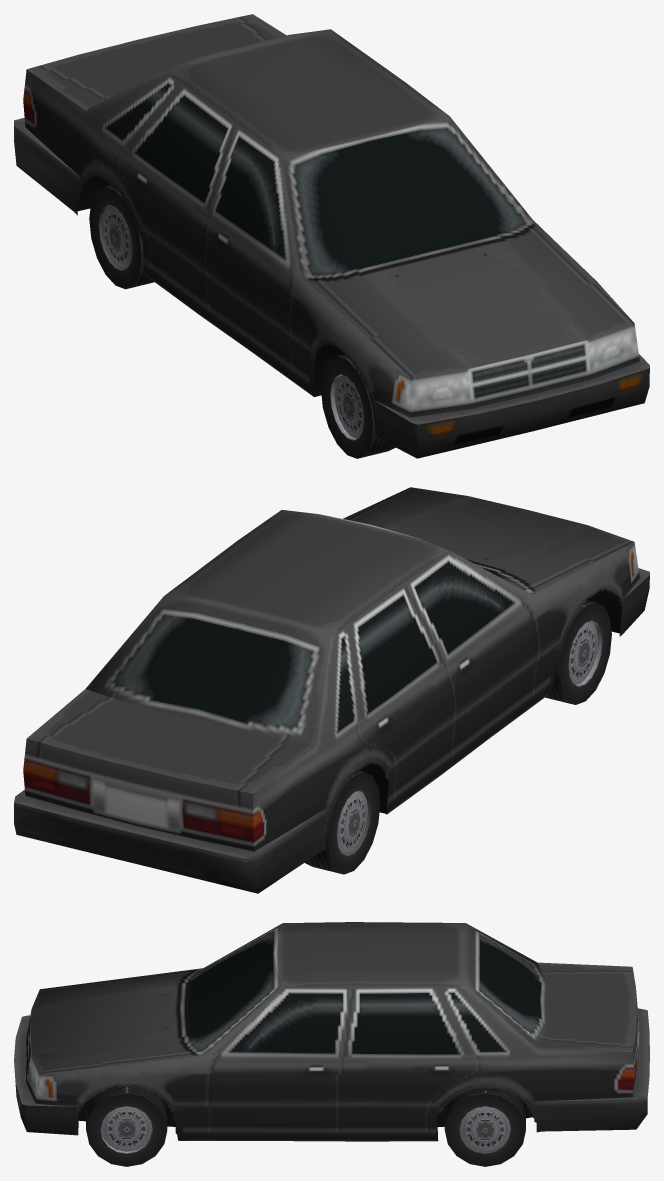
The model's file is SuspiciousCar.obj.
3 views of the same model, one above another, from view 1: azimuth 30°, elevation 25°; view 2: azimuth 150°, elevation 25°; view 3: azimuth 270°, elevation 25° (orthographic). The views are drawn at different scales.
Visible parts, largest first — view 1: Body_Cube.001, Wheel_FR_Cylinder, Wheels_RR_Cylinder.003; view 2: Body_Cube.001, Wheels_RR_Cylinder.003, Wheel_FR_Cylinder; view 3: Body_Cube.001, Wheels_FL_Cylinder.002, Wheels_RL_Cylinder.001.
Boxes of the visible parts, x1,y1,x2,y2 form: Body_Cube.001: (14, 14, 649, 458); Wheel_FR_Cylinder: (321, 354, 395, 458); Wheels_RR_Cylinder.003: (89, 185, 154, 289); Body_Cube.001: (14, 487, 649, 893); Wheels_RR_Cylinder.003: (304, 770, 380, 874); Wheel_FR_Cylinder: (545, 600, 611, 704); Body_Cube.001: (14, 922, 649, 1141); Wheels_FL_Cylinder.002: (86, 1086, 167, 1166); Wheels_RL_Cylinder.001: (444, 1090, 525, 1166).
Size of the model in its own units: 1.02 by 0.8487 by 2.85.
Materials: 1 (1 with a texture image).
